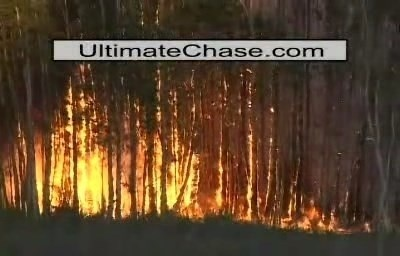fire: (40, 65, 108, 214)
